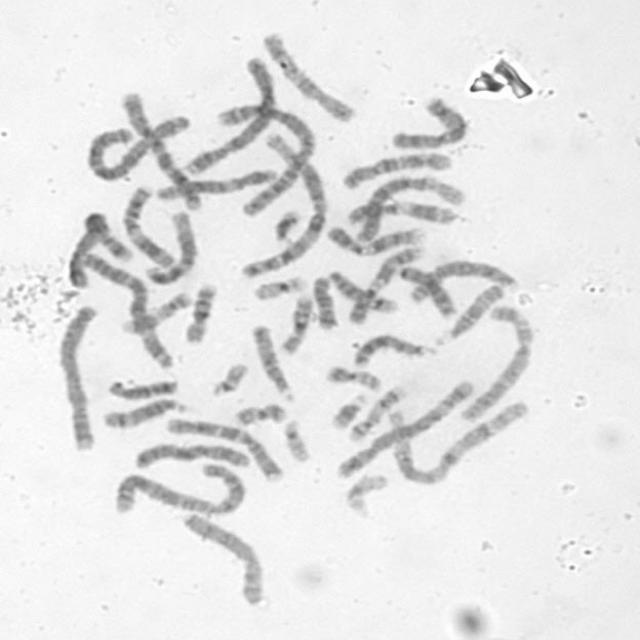A1: (239, 132, 328, 277), (387, 399, 529, 485)
A2: (217, 102, 317, 216), (111, 462, 246, 516)
A3: (82, 252, 174, 368), (87, 114, 193, 181)
B4: (183, 56, 276, 174), (58, 306, 100, 451)
B5: (334, 378, 474, 480), (68, 214, 132, 288)
C10: (260, 31, 357, 123), (342, 152, 454, 191)
C11: (121, 185, 176, 268), (346, 199, 459, 226)
C12: (155, 168, 278, 201), (145, 208, 198, 284)
C6: (458, 305, 534, 422), (352, 176, 466, 241)
C7: (119, 92, 203, 210), (166, 417, 283, 483)
C8: (180, 512, 266, 607), (408, 260, 517, 304)
C9: (347, 243, 428, 324), (326, 225, 426, 256)
D13: (400, 266, 456, 320), (351, 334, 436, 369)
D14: (328, 270, 398, 314), (101, 399, 197, 429)
D15: (436, 284, 506, 347), (250, 323, 296, 403)
E16: (185, 282, 218, 344), (280, 296, 313, 356)
E17: (347, 386, 408, 441), (122, 290, 192, 334)
E18: (108, 378, 178, 400), (312, 275, 336, 330)
F19: (344, 473, 388, 519), (254, 274, 307, 301)
F20: (325, 366, 383, 393), (235, 404, 289, 426)
G21: (329, 392, 368, 432), (272, 210, 300, 241)
G22: (208, 361, 250, 397), (284, 419, 311, 464)
X: (388, 96, 468, 149), (130, 440, 254, 470)
